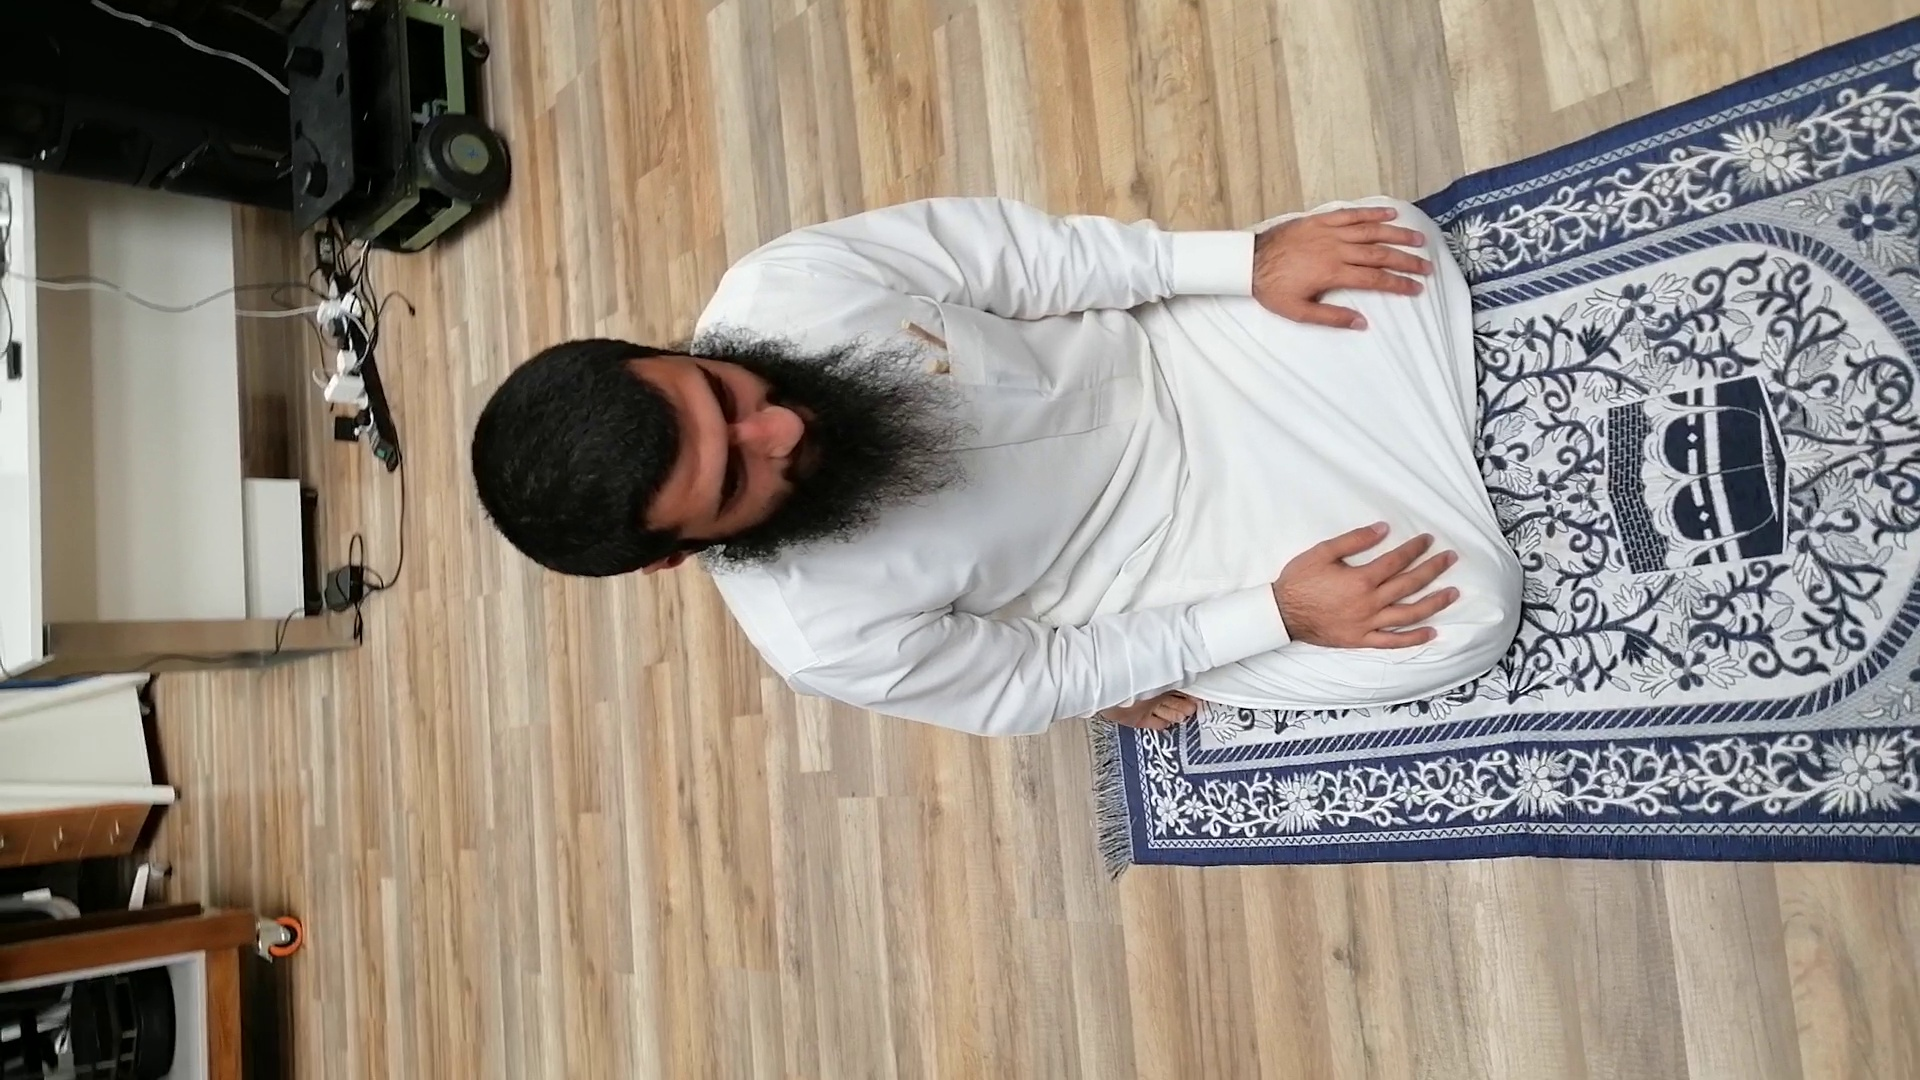sitting: (454, 185, 1625, 767)
